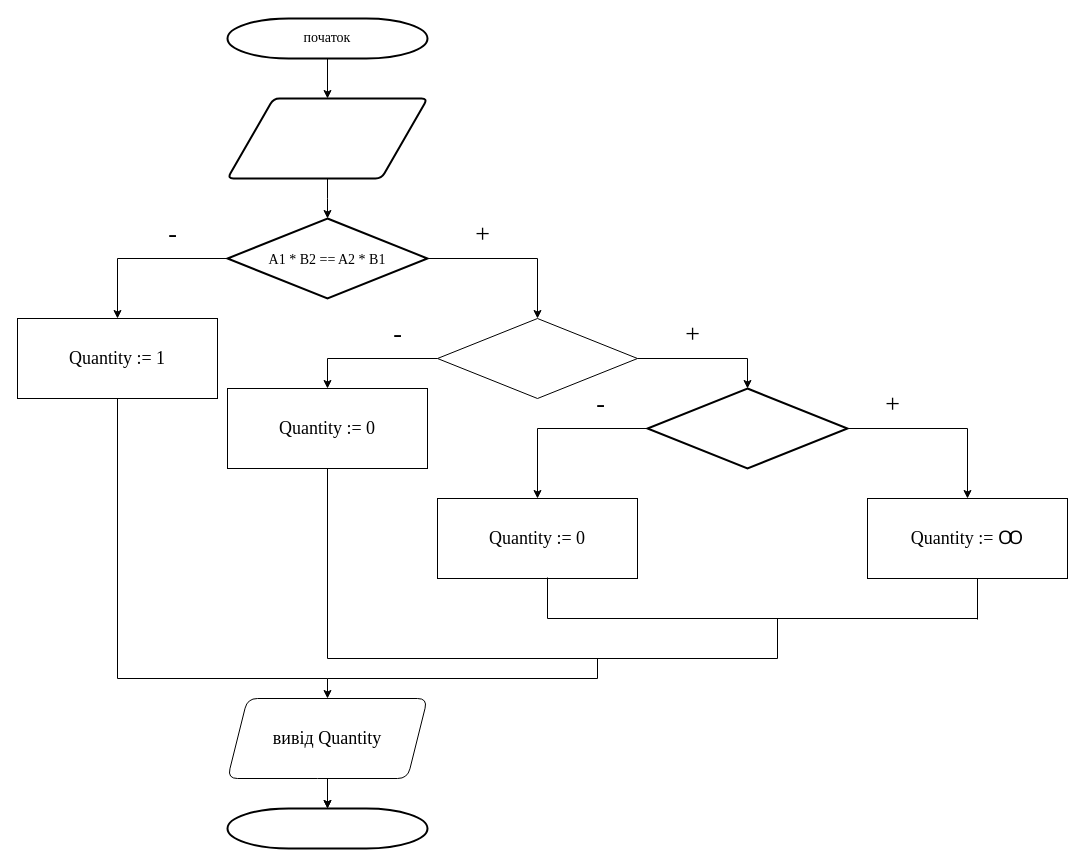
This 1085x866 diagram has some shape labels left out. Here are the shapes that lost their labels. From the top down, the centre of each, then its label:
the point at 327,138: ввід A1, B1, C1, A2, B2, C2
the point at 537,358: A1 * C2 == A2 * C1
the point at 747,428: B 1 * C 2 == B 2 * C 1
the point at 327,828: кінець
